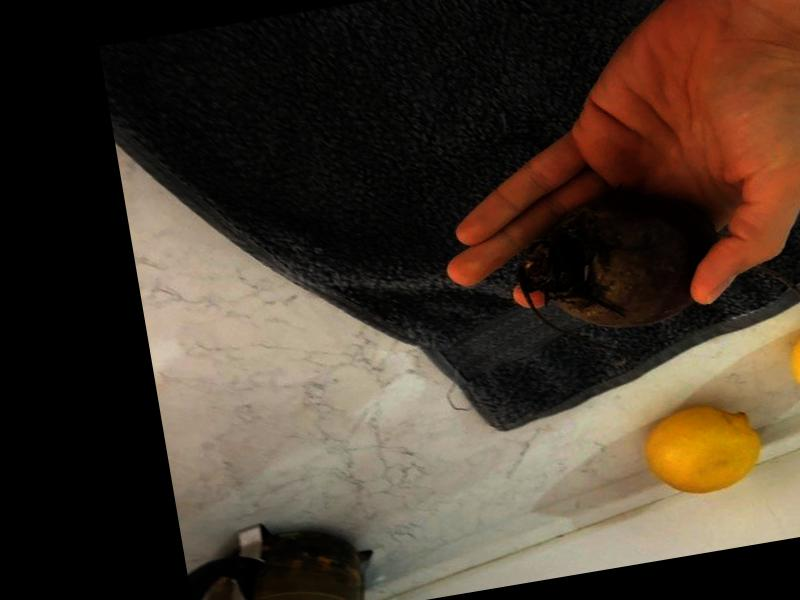Beet: (508, 164, 800, 357)
